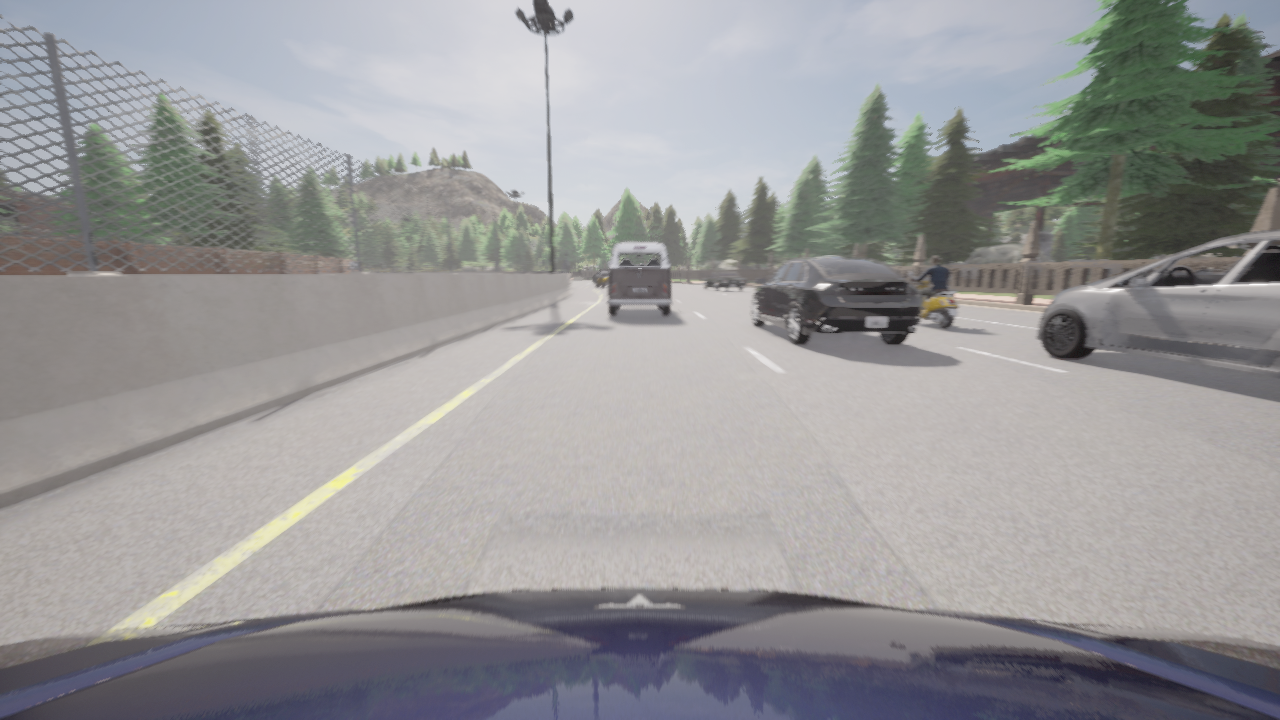cyclist: (0, 588, 1279, 719), (1037, 230, 1279, 377), (750, 256, 921, 345), (608, 242, 671, 316), (909, 272, 957, 328), (702, 272, 747, 291), (593, 270, 609, 283), (596, 271, 608, 287)
